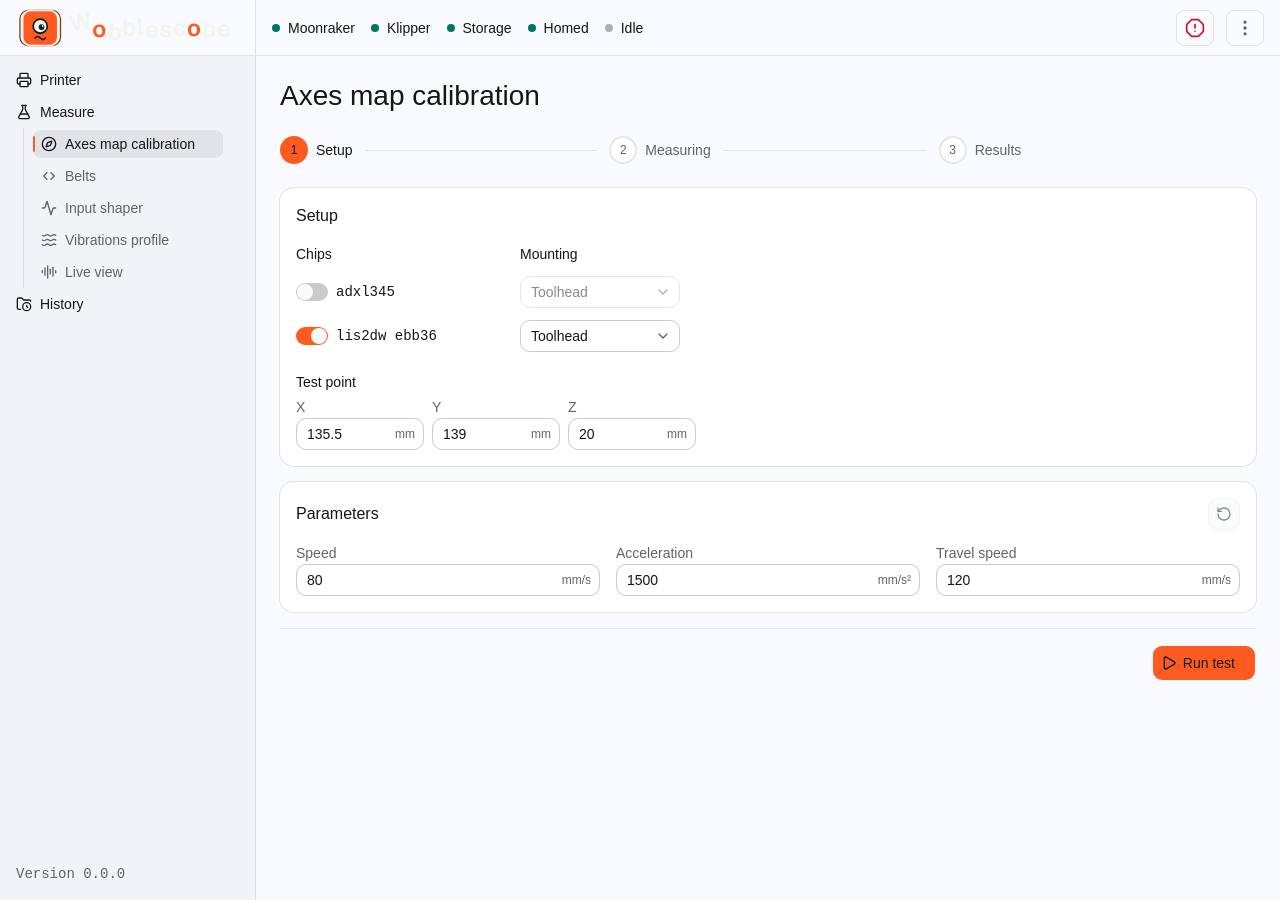
the axes-map run page › refuses to start with no chip chosen
The width and height of the screenshot is (1280, 900).
Check: the button "Run test" is enabled, box [1152, 645, 1256, 681]
What coordinates should you click on to do the following:
click the switch named "lis2dw ebb36" next to "lis2dw ebb36"
I would click on:
 (312, 336)
Its box is [296, 327, 328, 345].
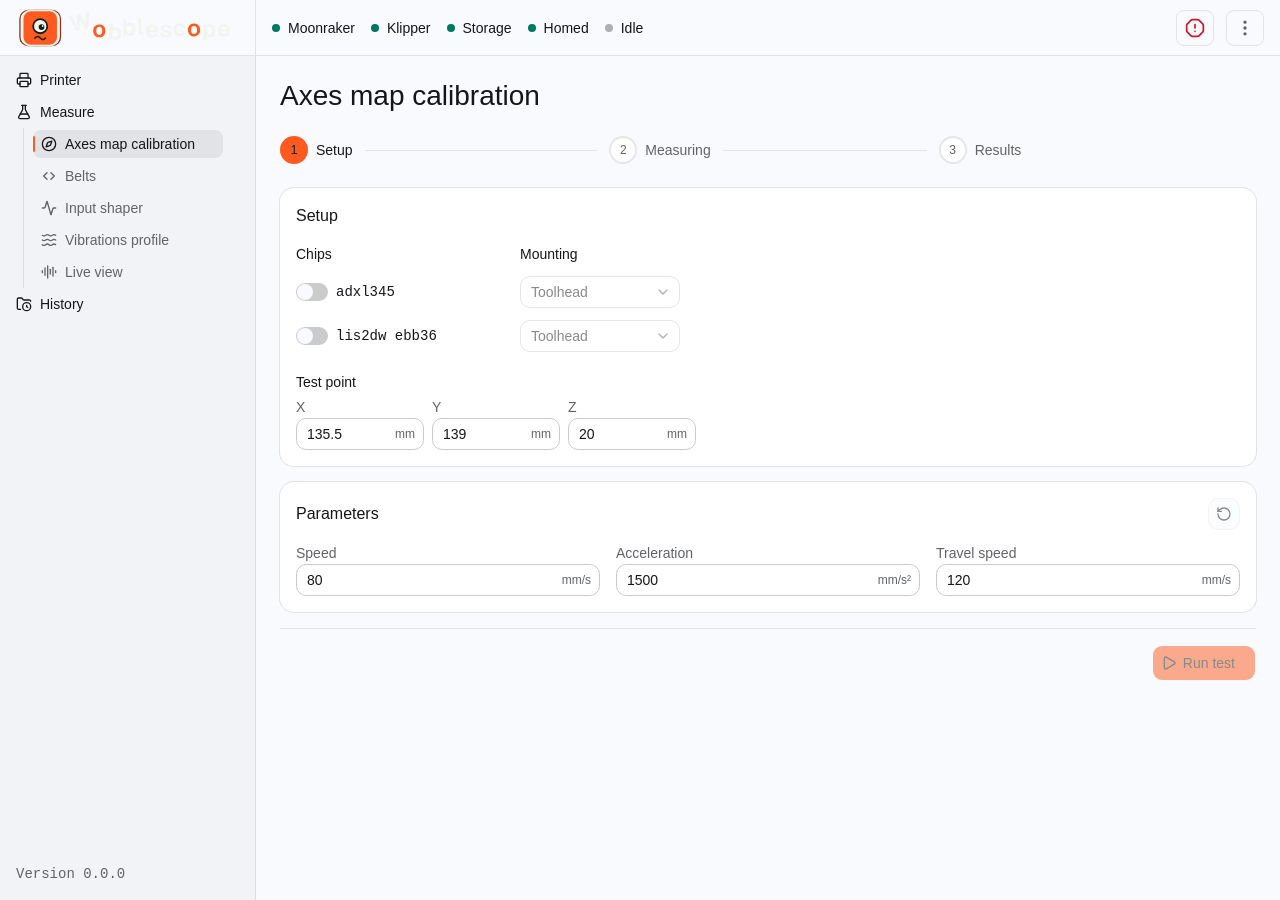
Check: the button "Run test" is disabled, box [1152, 645, 1256, 681]
